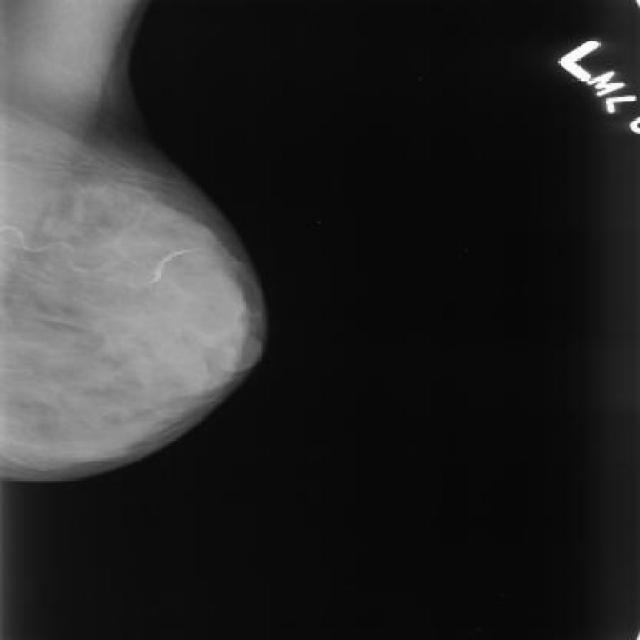tumor: (26, 214, 187, 432)
